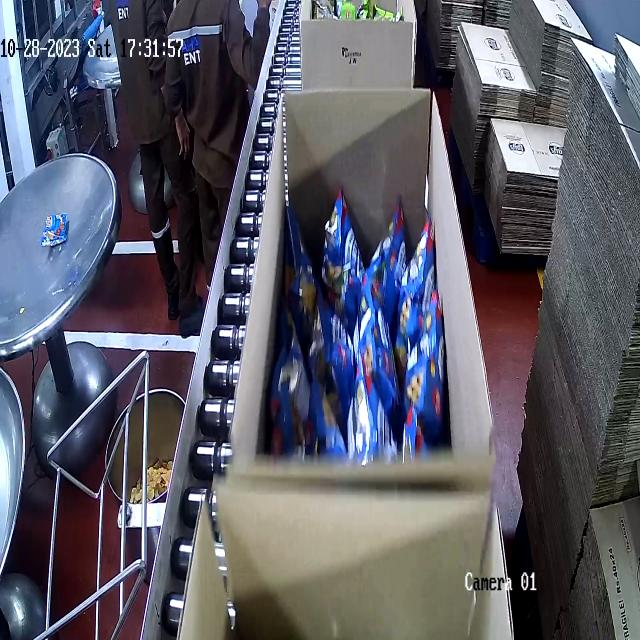PAPRIKA: (283, 192, 445, 449)
